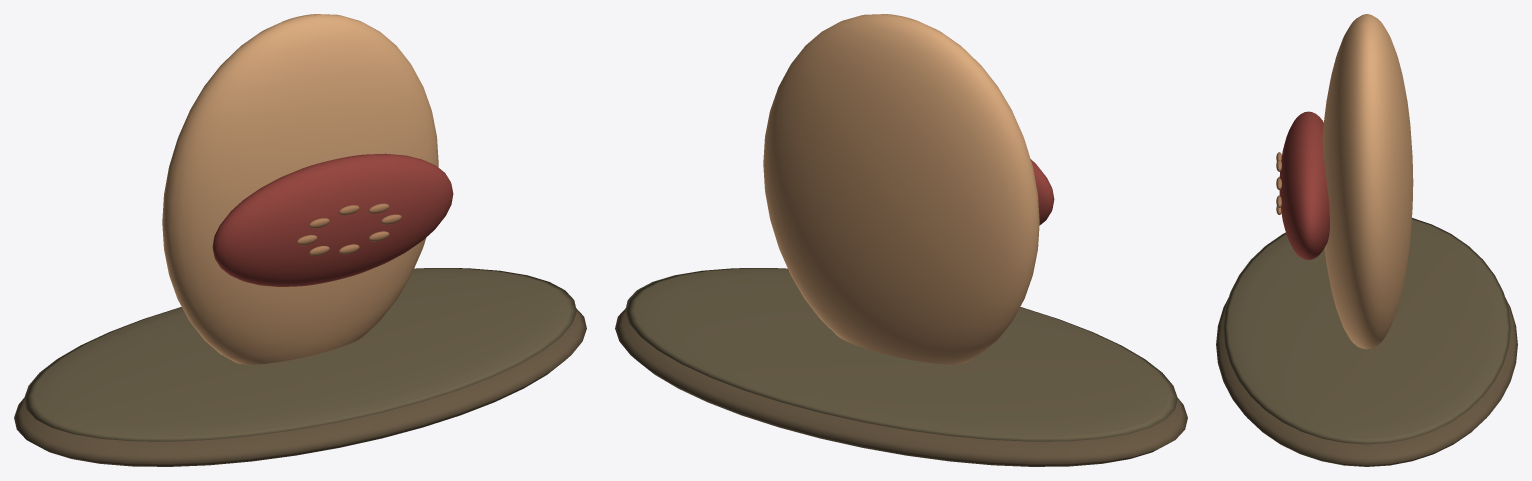
Rendered from liver.glb.
3 views of the same model, side by side, from view 1: azimuth 30°, elevation 25°; view 2: azimuth 150°, elevation 25°; view 3: azimuth 270°, elevation 25° (orthographic). The views are drawn at different scales.
Parts seen in each view (by area): view 1: liver_surface_02, liver_surface_01, liver_surface_03, liver_surface_00, liver_surface_04; view 2: liver_surface_02, liver_surface_01, liver_surface_00, liver_surface_03; view 3: liver_surface_01, liver_surface_02, liver_surface_00, liver_surface_03.
Part boxes in pixels (<box>): liver_surface_02: <box>162,14,438,364</box>; liver_surface_01: <box>24,268,576,441</box>; liver_surface_03: <box>212,153,453,286</box>; liver_surface_00: <box>14,308,586,466</box>; liver_surface_04: <box>296,203,401,255</box>; liver_surface_02: <box>763,14,1039,364</box>; liver_surface_01: <box>625,268,1177,441</box>; liver_surface_00: <box>615,308,1187,466</box>; liver_surface_03: <box>1030,159,1054,225</box>; liver_surface_01: <box>1223,218,1510,444</box>; liver_surface_02: <box>1322,14,1413,349</box>; liver_surface_00: <box>1216,297,1517,466</box>; liver_surface_03: <box>1279,111,1329,259</box>.
Size of the model in its own units: 4.68 by 3.1 by 2.48.
